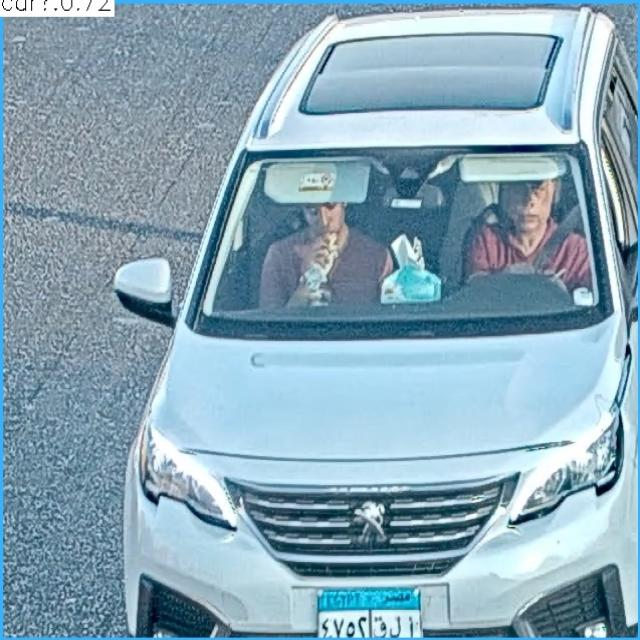windshield: (199, 146, 604, 332)
